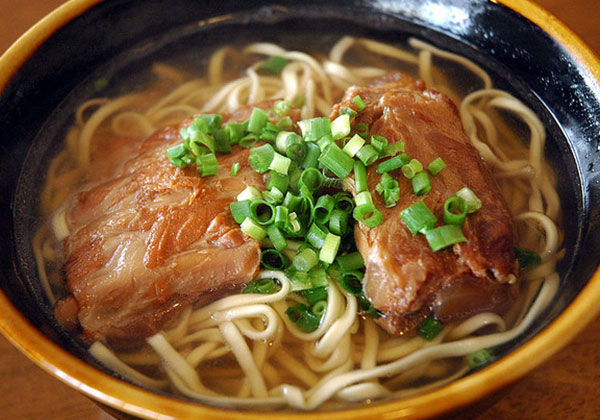Soba: (49, 26, 567, 395)
